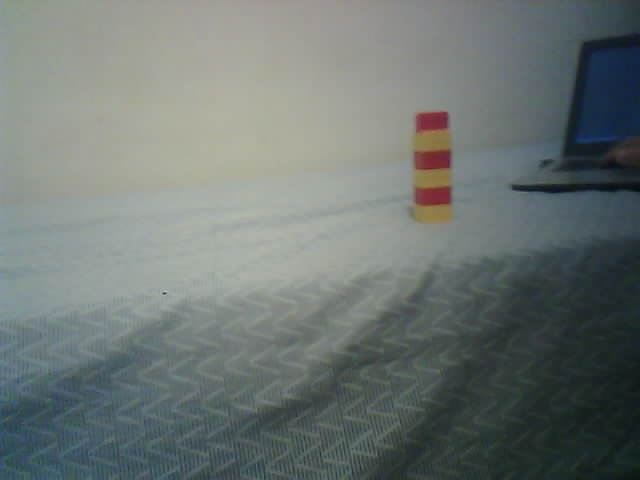lego: (410, 110, 453, 224)
